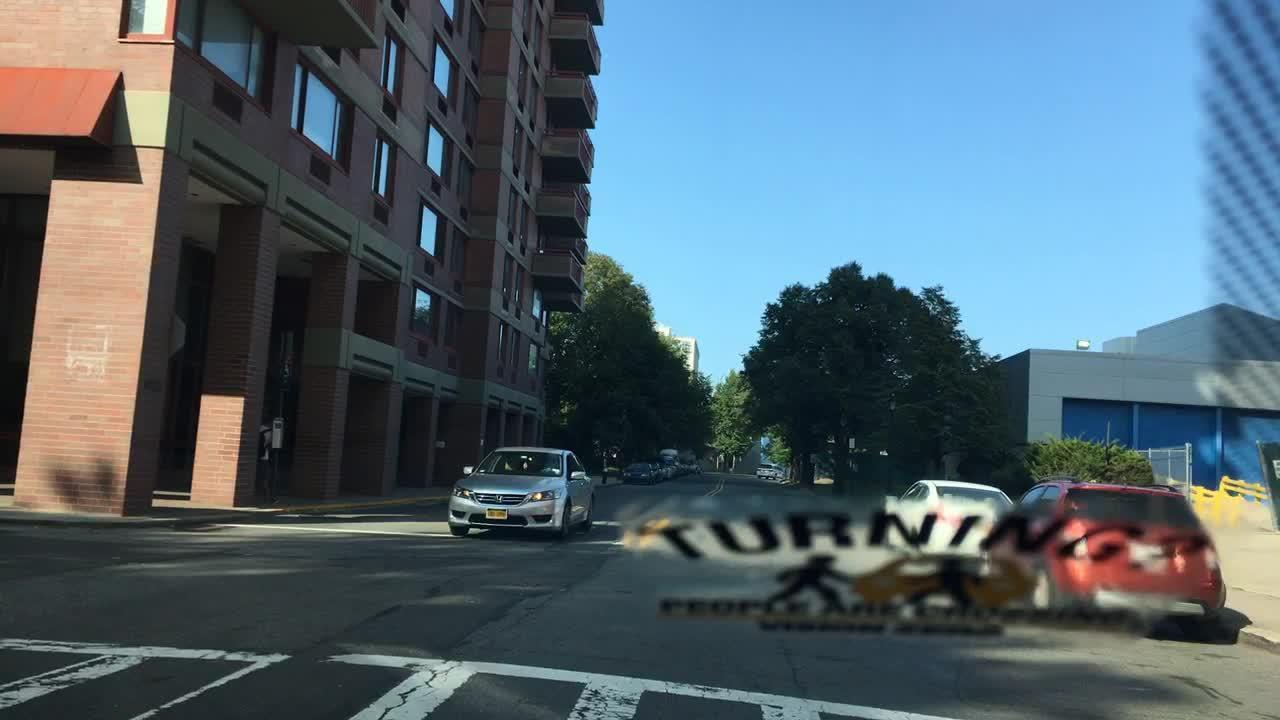Honda: (487, 489, 508, 507)
